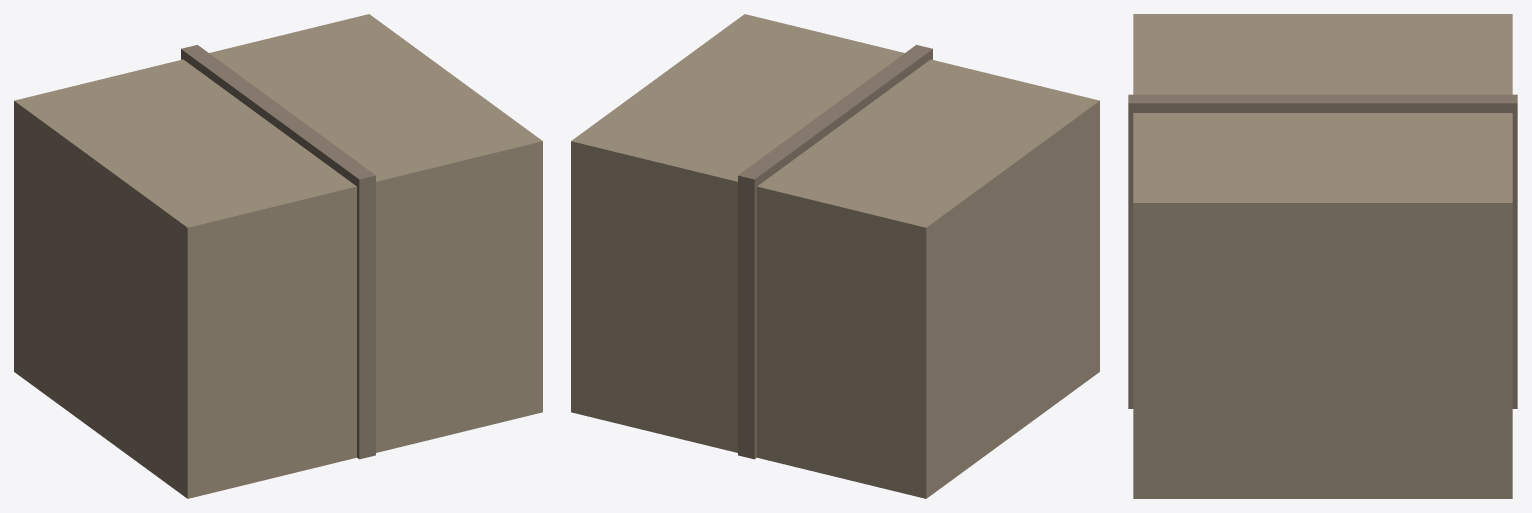
Rendered from cardboard_box.glb.
3 views of the same model, side by side, from view 1: azimuth 30°, elevation 25°; view 2: azimuth 150°, elevation 25°; view 3: azimuth 270°, elevation 25° (orthographic). The views are drawn at different scales.
Visible parts, largest first — view 1: box_0, tape_1; view 2: box_0, tape_1; view 3: box_0, tape_1.
Part boxes in pixels (x1=…): box_0: x1=14, y1=14, x2=542, y2=498; tape_1: x1=181, y1=45, x2=375, y2=459; box_0: x1=571, y1=14, x2=1099, y2=498; tape_1: x1=738, y1=45, x2=932, y2=459; box_0: x1=1133, y1=14, x2=1512, y2=498; tape_1: x1=1128, y1=94, x2=1517, y2=408.
Bounding box in the file's own units: 0.85 × 0.64 × 0.74.
